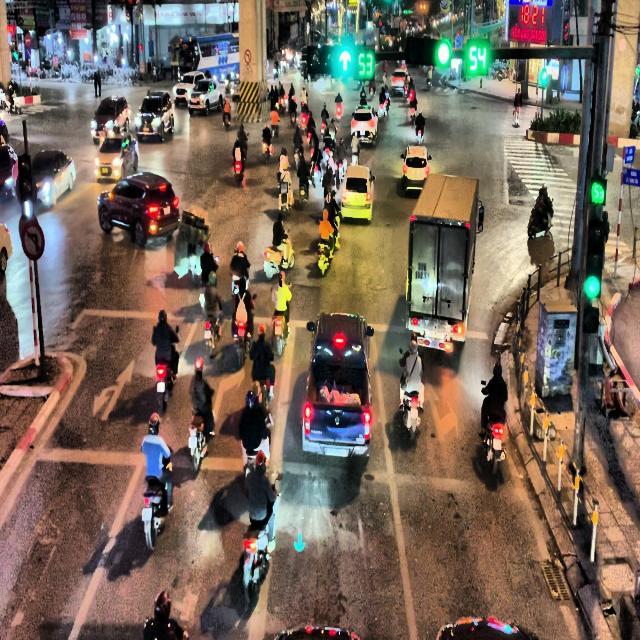lisence_plate: (320, 443, 352, 459), (414, 262, 431, 285), (423, 331, 445, 342), (492, 437, 502, 451), (162, 205, 172, 216), (412, 169, 420, 178), (352, 196, 358, 203), (361, 132, 365, 136)
